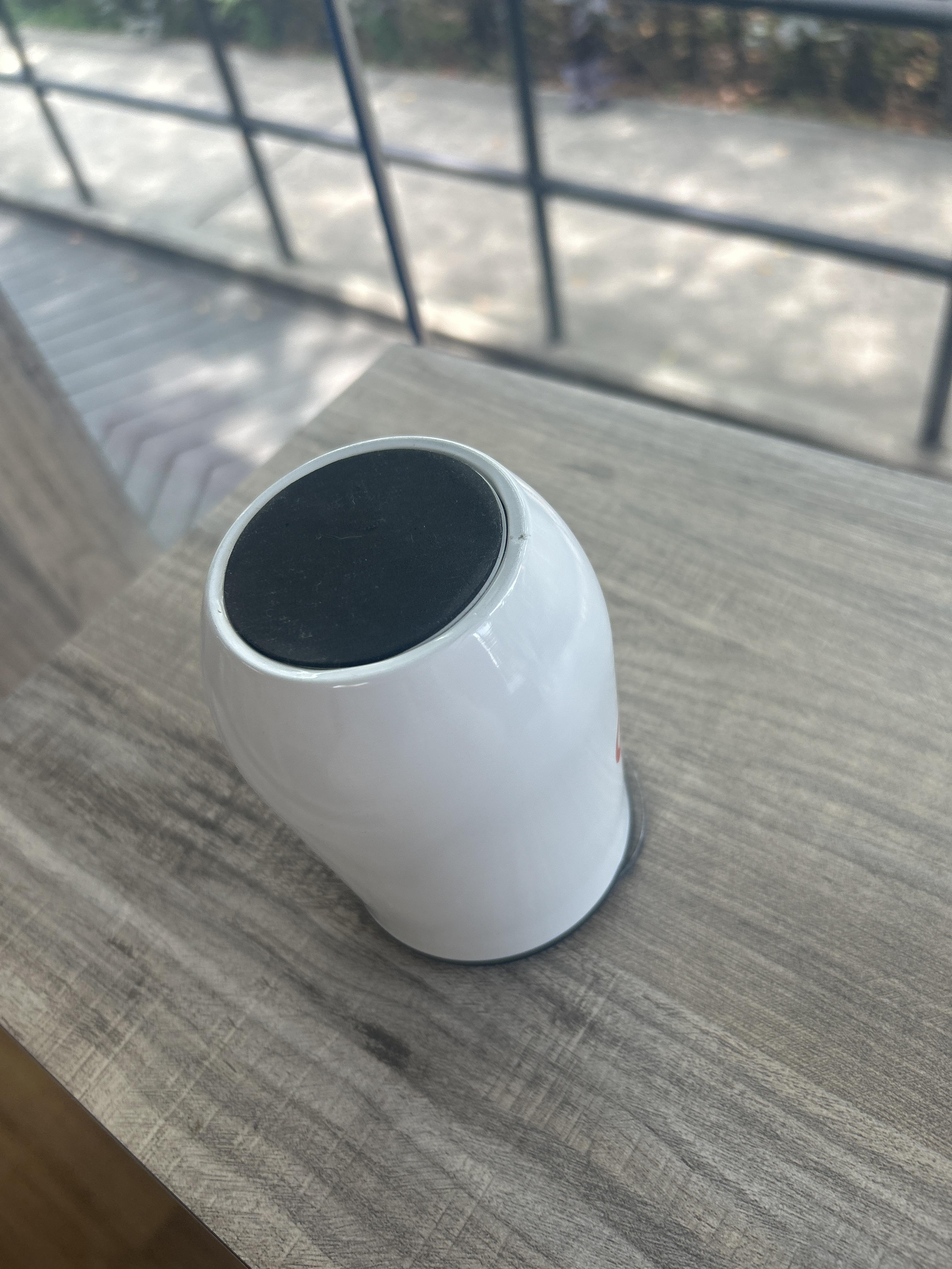vaso: (202, 436, 631, 963)
